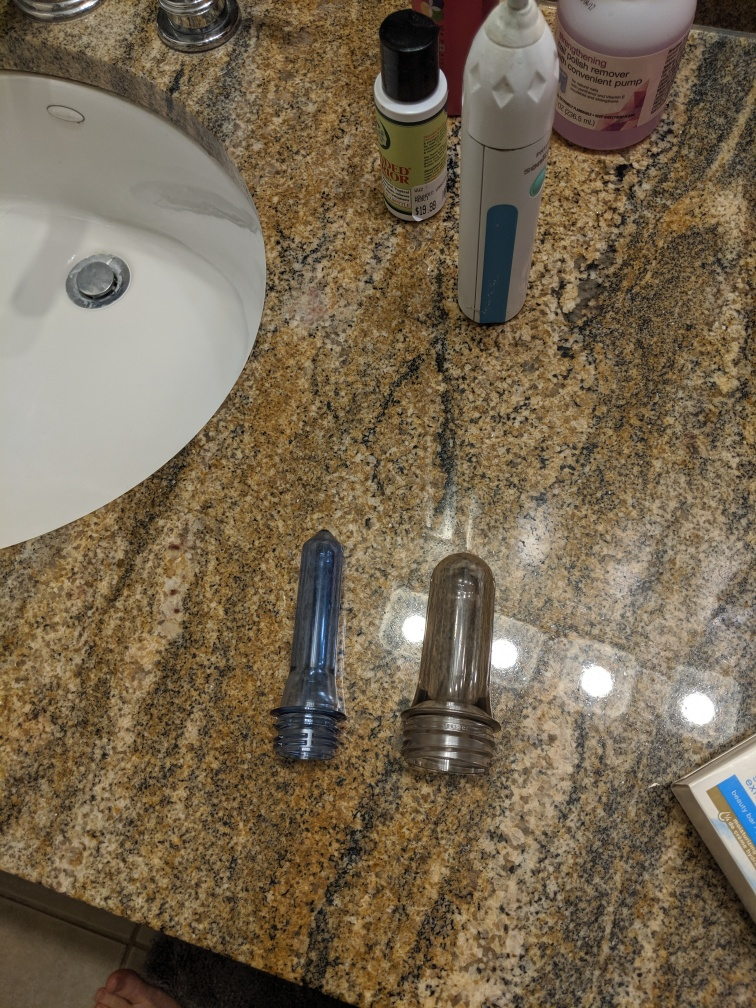preform: (391, 544, 511, 784), (261, 524, 359, 769)
